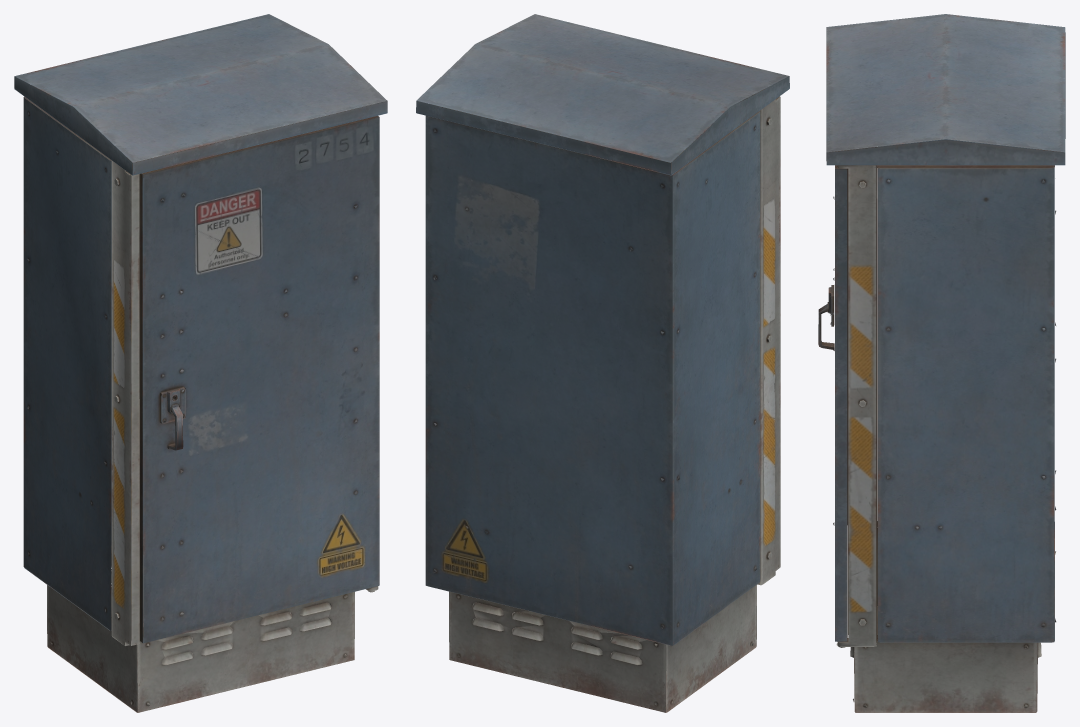
Rendered from utility_box.glb.
The picture shows the model from 3 angles, left to right: view 1: azimuth 30°, elevation 25°; view 2: azimuth 150°, elevation 25°; view 3: azimuth 270°, elevation 25°; orthographic projection.
Visible parts, largest first — view 1: utility_box; view 2: utility_box; view 3: utility_box.
Boxes of the visible parts, left/top/right/bottom form: utility_box: left=14, top=14, right=387, bottom=712; utility_box: left=416, top=14, right=789, bottom=712; utility_box: left=818, top=14, right=1065, bottom=712.
Size of the model in its own units: 0.5178 by 1.12 by 0.4303.
Materials: 1 (1 with a texture image).
